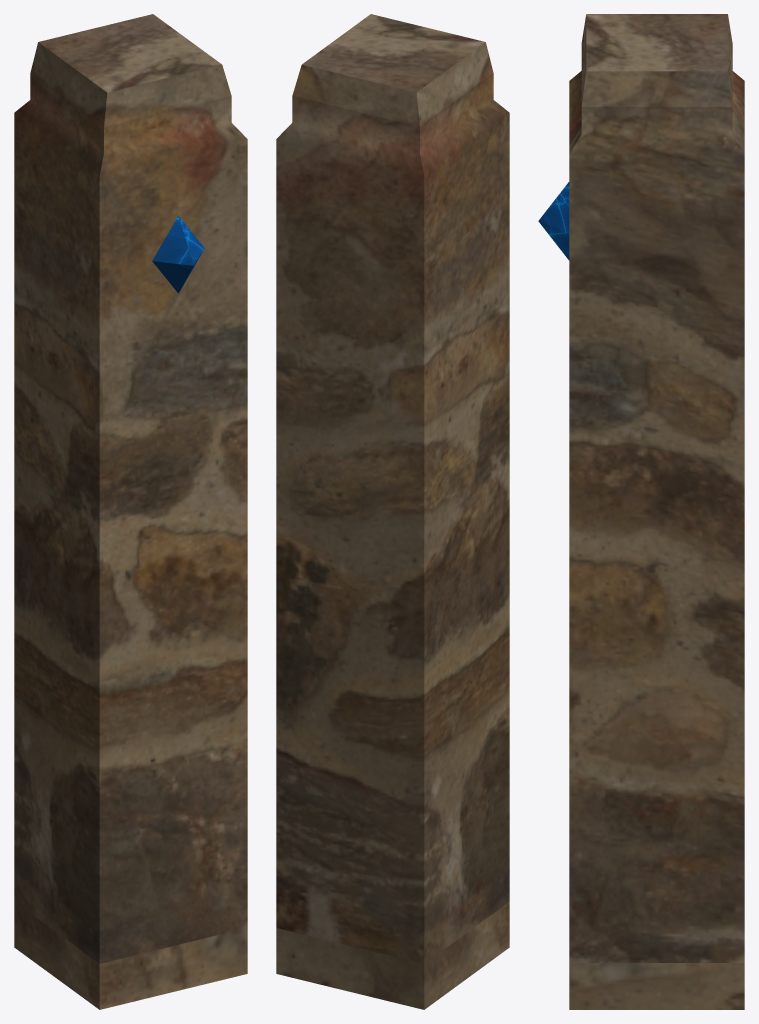
The model's file is Pillar.fbx.
3 renders of one model, left to right at view 1: azimuth 30°, elevation 25°; view 2: azimuth 150°, elevation 25°; view 3: azimuth 270°, elevation 25°, orthographic. The views are drawn at different scales.
Visible parts, largest first — view 1: Pillar1, Light27; view 2: Pillar1; view 3: Pillar1, Light27.
Boxes of the visible parts, <box> form: Pillar1: <box>14,14,247,1009</box>; Light27: <box>152,216,204,293</box>; Pillar1: <box>276,14,509,1009</box>; Pillar1: <box>569,14,744,1009</box>; Light27: <box>538,182,569,260</box>.
Size of the model in its own units: 0.5392 by 3.16 by 0.6353.
Materials: 1 (1 with a texture image).
